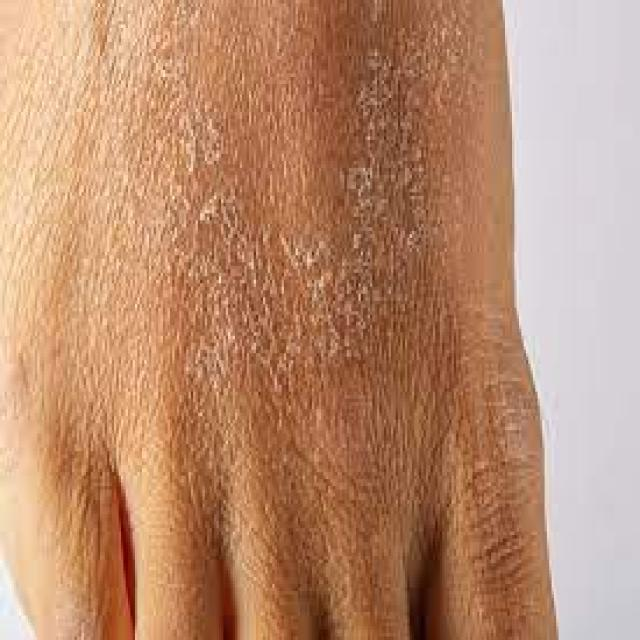dry: (178, 304, 248, 562), (164, 130, 268, 252), (274, 370, 357, 480), (360, 168, 420, 288), (352, 58, 478, 98), (64, 192, 124, 272), (259, 47, 324, 110), (124, 22, 187, 72), (46, 376, 86, 452), (461, 330, 489, 378)
